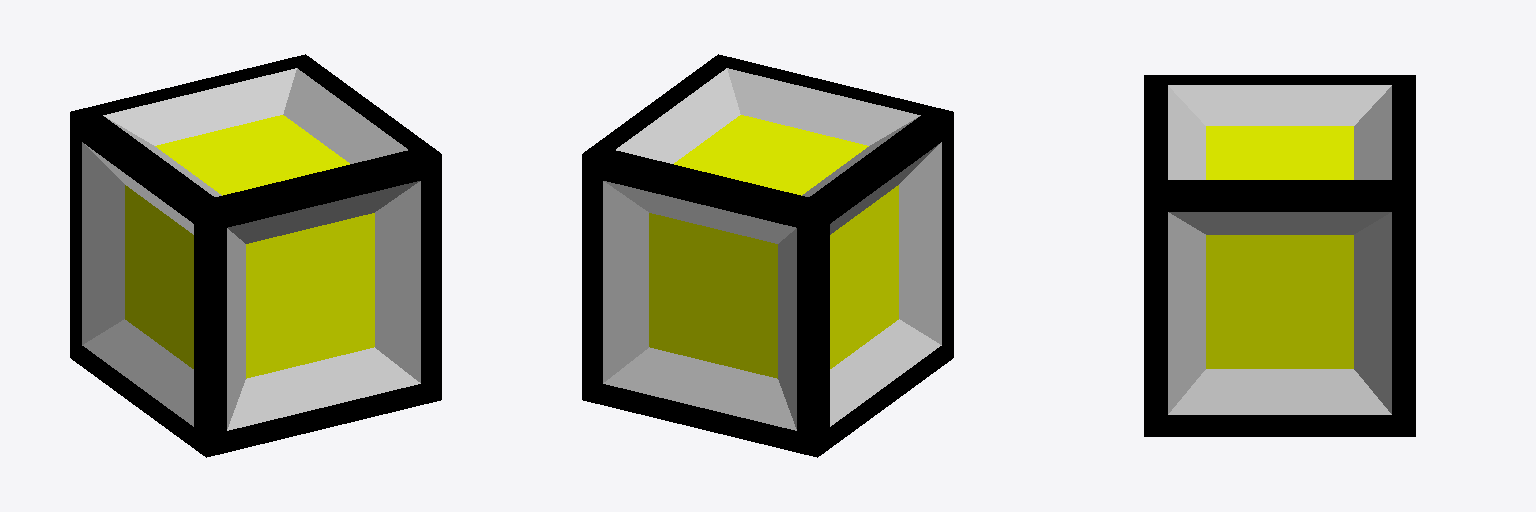
Rendered from BoxContainer.obj.
3 renders of one model, left to right at view 1: azimuth 30°, elevation 25°; view 2: azimuth 150°, elevation 25°; view 3: azimuth 270°, elevation 25°, orthographic.
Visible parts, largest first — view 1: Cube_Debris_Cube.008; view 2: Cube_Debris_Cube.008; view 3: Cube_Debris_Cube.008.
Boxes of the visible parts, <box> form: Cube_Debris_Cube.008: <box>70,54,441,457</box>; Cube_Debris_Cube.008: <box>582,54,953,457</box>; Cube_Debris_Cube.008: <box>1144,75,1415,436</box>.
Size of the model in its own units: 2.19 by 2.19 by 2.19.